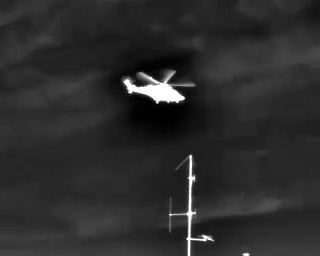HELICOPTER: (120, 62, 200, 111)
